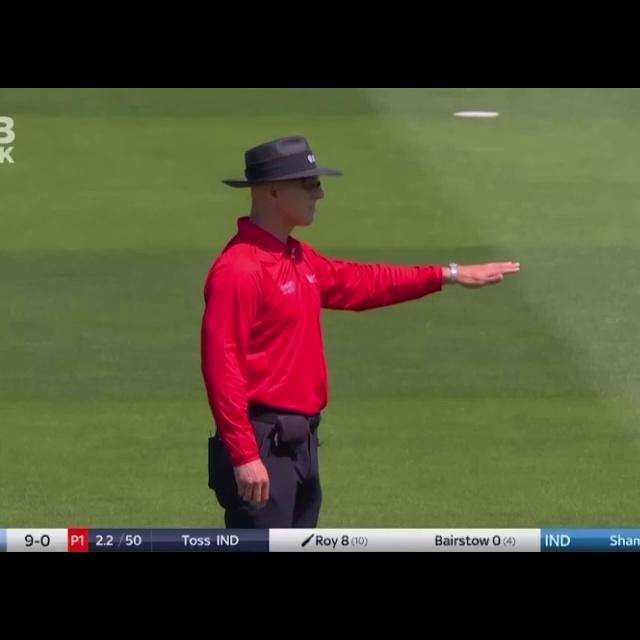umpire: (189, 115, 529, 528)
